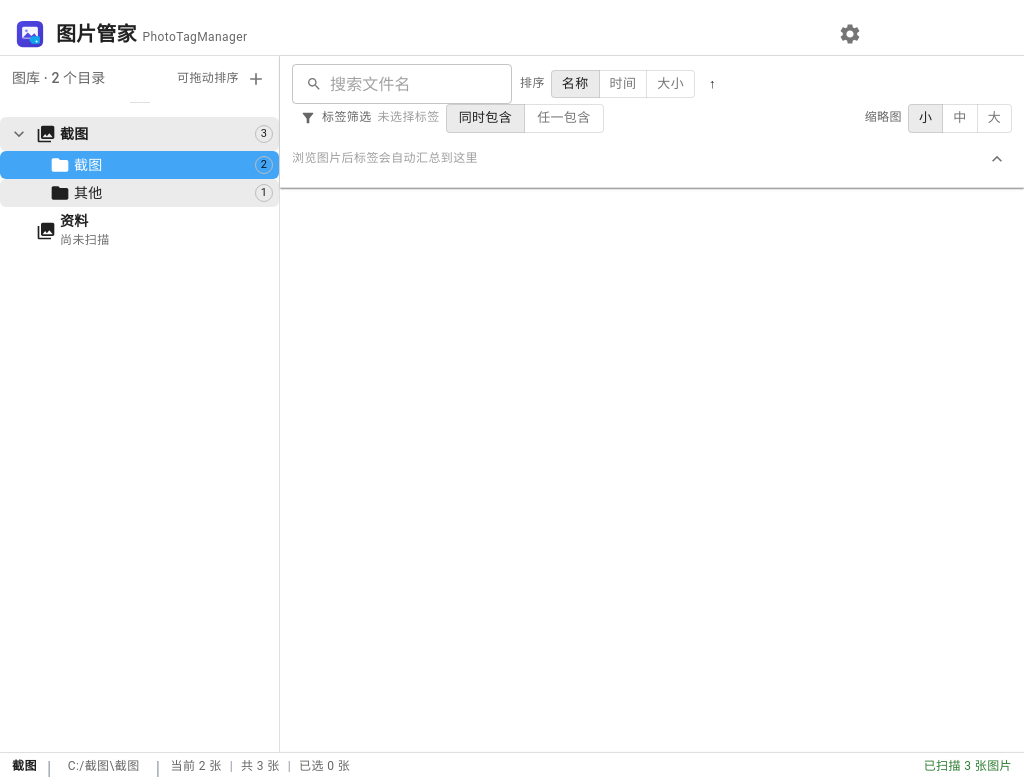
批次2 G7 状态栏 › 点状态栏路径 = 复制绝对路径文本，并给成功反馈
# 悬停也不再出提示条——要复制的人点一下就有反馈，常驻提示反而挡视线
Hover over the button with aria-label "复制当前目录路径" at (104, 766), box [62, 756, 146, 776]
Click the button with aria-label "复制当前目录路径" at (104, 766), box [62, 756, 146, 776]
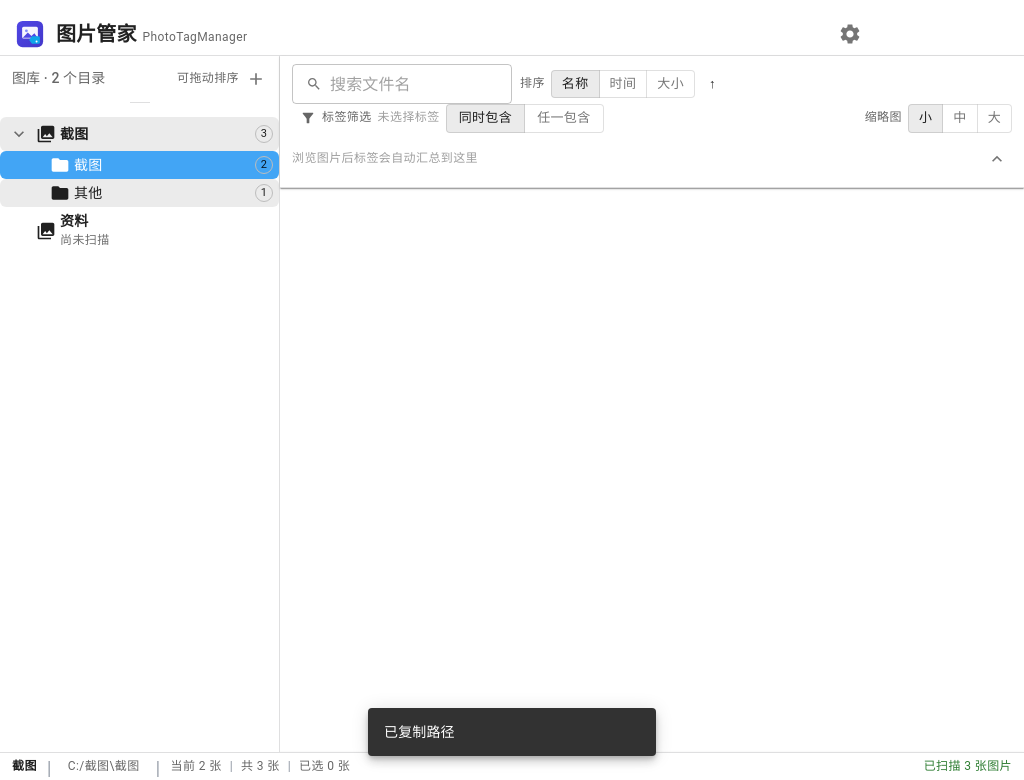
Now the text "已复制路径" is shown, box [384, 724, 455, 740]
